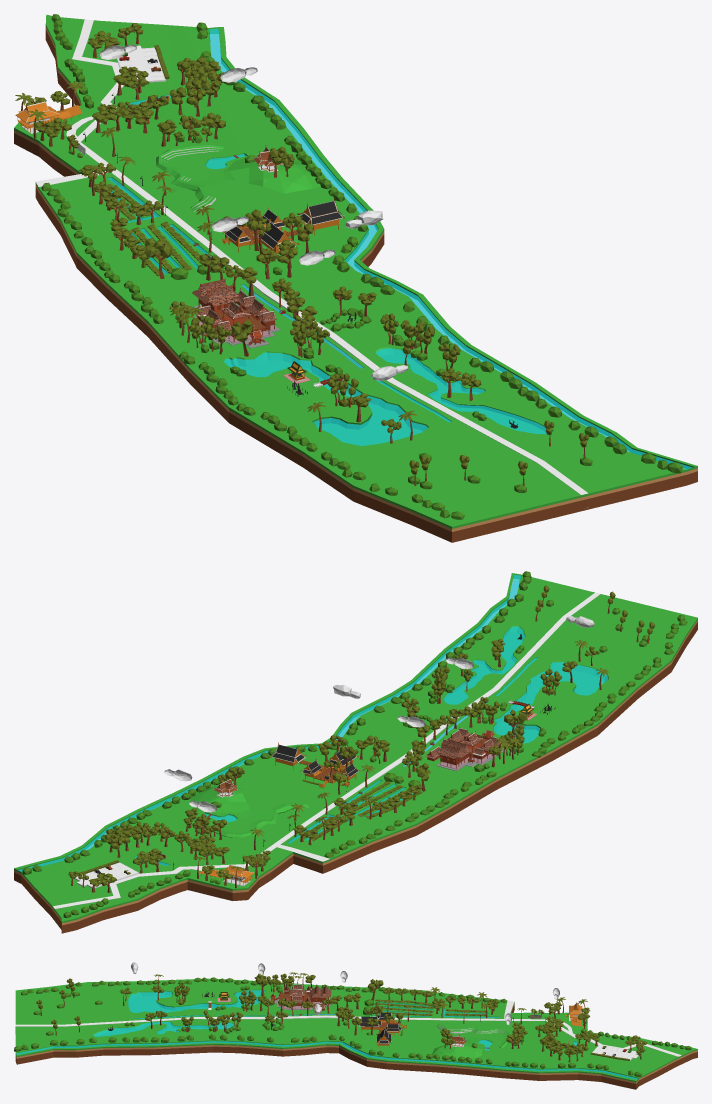
3 views of the same model, one above another, from view 1: azimuth 30°, elevation 25°; view 2: azimuth 150°, elevation 25°; view 3: azimuth 270°, elevation 25° (orthographic). The views are drawn at different scales.
Visible parts, largest first — view 1: Plane.010, Plane.014, Plane.023, Plane.015, Plane.009, Plane.011, Plane.024; view 2: Plane.010, Plane.014, Plane.023, Plane.015, Plane.009, Plane.011; view 3: Plane.010, Plane.014, Plane.015, Plane.023, Plane.009, Plane.011.
Boxes of the visible parts, x1,y1,x2,y2 form: Plane.010: (14,14,686,542); Plane.014: (208,27,697,485); Plane.023: (224,352,427,445); Plane.015: (209,28,692,469); Plane.009: (376,348,546,434); Plane.011: (116,45,166,82); Plane.024: (156,145,223,208); Plane.010: (21,574,697,933); Plane.014: (14,573,521,883); Plane.023: (493,662,608,743); Plane.015: (18,574,520,871); Plane.009: (444,626,524,704); Plane.011: (74,862,138,888); Plane.010: (15,978,697,1086); Plane.014: (15,1040,638,1089); Plane.015: (16,1041,637,1079); Plane.023: (128,990,265,1012); Plane.009: (93,1022,233,1036); Plane.011: (591,1045,638,1061).
Bounding box in the file's own units: 201 × 52.32 × 566.
Materials: 24 (5 with a texture image).
